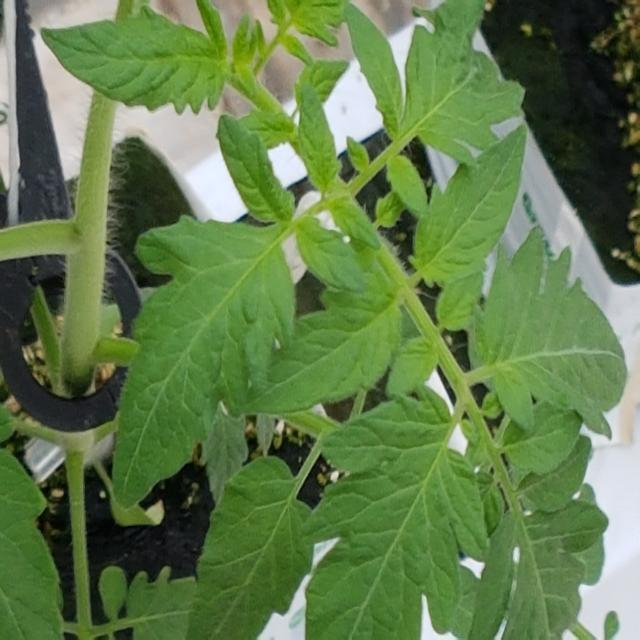Healthy Leaf: (112, 214, 296, 508), (304, 386, 488, 640), (476, 225, 626, 435), (184, 456, 315, 640), (241, 272, 401, 415), (38, 10, 226, 113), (413, 124, 524, 281), (404, 27, 524, 162), (0, 444, 67, 640), (217, 114, 295, 224), (347, 0, 402, 139), (300, 216, 362, 292), (297, 82, 340, 188)
